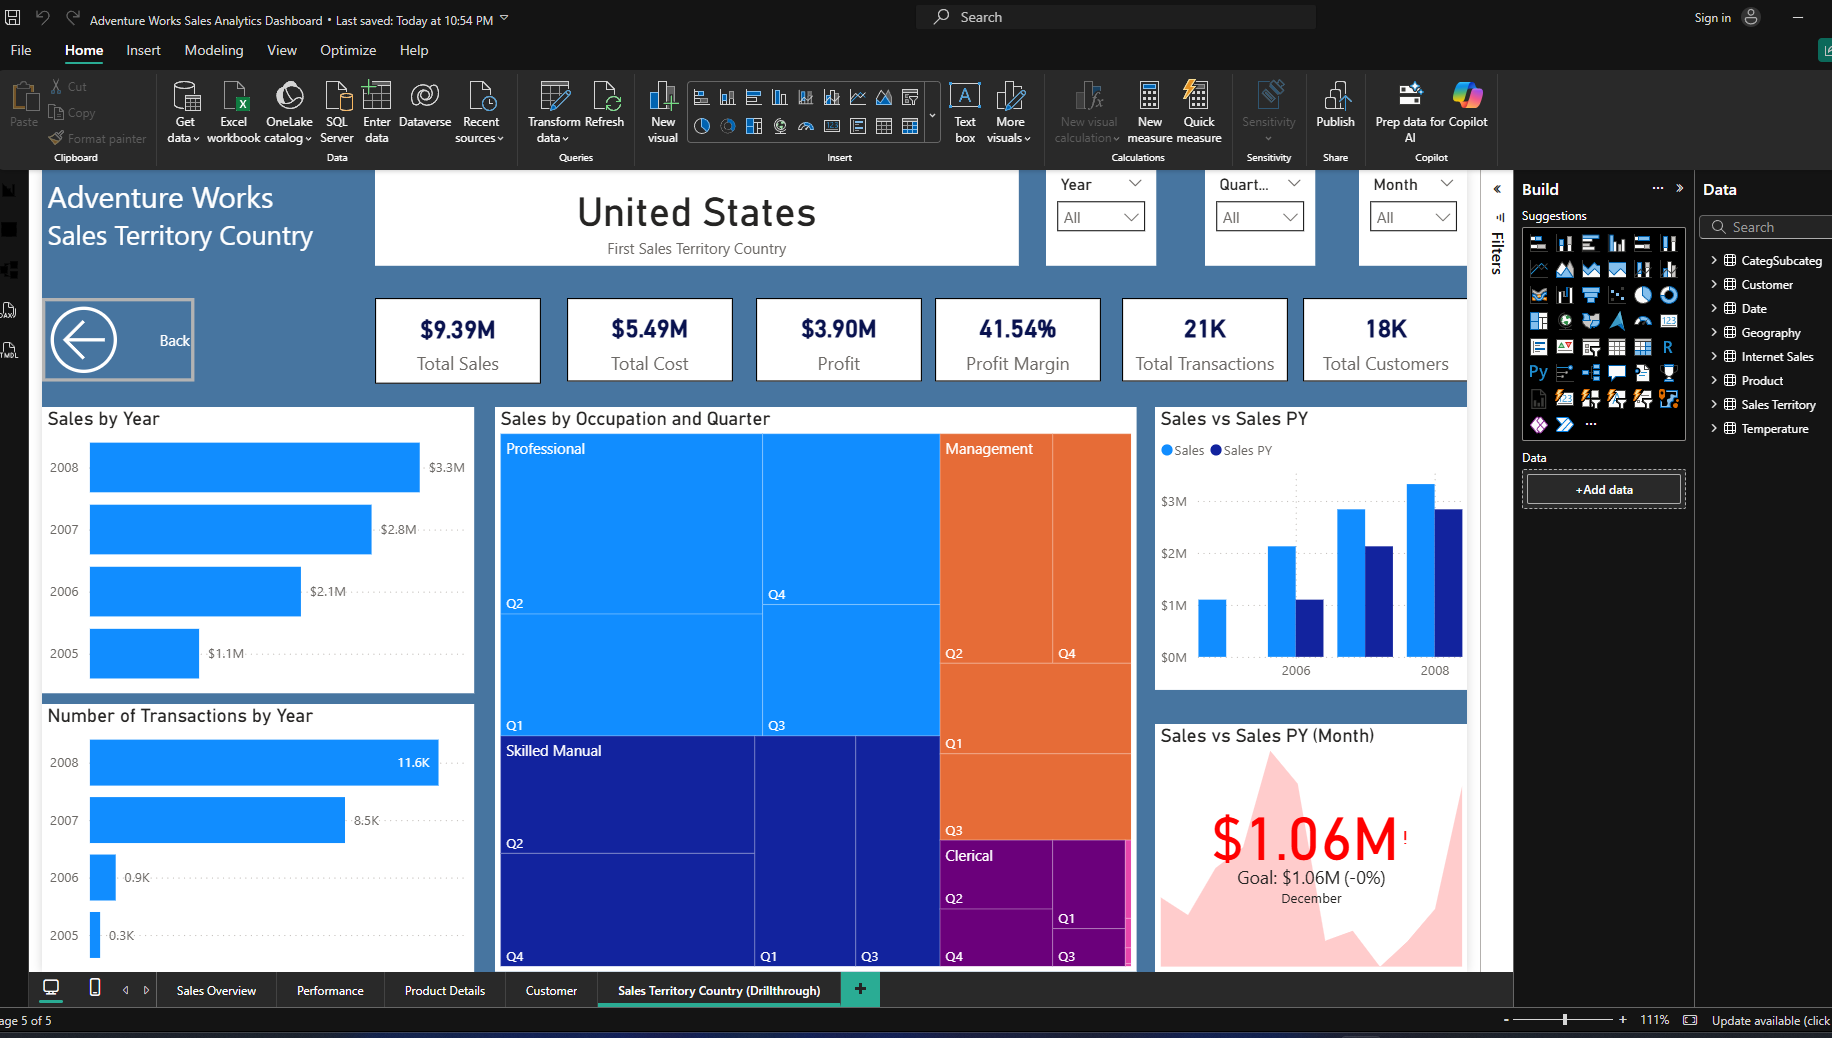

This screenshot's page, from the dashboard's own definition file:
{"tool":"powerbi","page":{"name":"Sales Territory Country (Drillthrough)","canvas":[1280,720],"ordinal":4},"visuals":[{"type":"barChart","title":"Number of Transactions by Year","fields":{"Category":["Date.Calendar Year"],"Y":["Internet Sales.Total Transactions"]},"box":[0,479.5,387.5,241],"z":0},{"type":"textbox","box":[0,0,288.2,86],"z":1000},{"type":"clusteredColumnChart","title":"Sales vs Sales PY","fields":{"Y":["Internet Sales.Total Sales","Internet Sales.SPLY Sales"],"Category":["Date.Calendar Hierarchy.Calendar Year","Date.Calendar Hierarchy.Calendar Quarter","Date.Calendar Hierarchy.Month Name"]},"box":[999.1,213.1,280.9,254.3],"z":2000},{"type":"card","fields":{"Values":["Internet Sales.Total Sales"]},"box":[299.1,115.1,148.7,76.7],"z":3000},{"type":"card","fields":{"Values":["Internet Sales.Profit"]},"box":[640.6,115.1,148.7,75.5],"z":4000},{"type":"card","fields":{"Values":["Internet Sales.Profit Margin"]},"box":[802,115.1,148.7,75.5],"z":5000},{"type":"card","fields":{"Values":["Internet Sales.Total Cost"]},"box":[471,115.1,148.7,75.5],"z":6000},{"type":"card","fields":{"Values":["Internet Sales.Total Transactions"]},"box":[969.3,115.1,148.7,75.5],"z":7000},{"type":"card","fields":{"Values":["Internet Sales.Total Customers"]},"box":[1131.9,115.1,148.7,75.5],"z":8000},{"type":"kpi","title":"Sales vs Sales PY (Month)","fields":{"Indicator":["Internet Sales.Total Sales"],"Goal":["Internet Sales.Total Sales PY (SPLY)"],"TrendLine":["Date.Month Name"]},"box":[999.1,497.7,280.9,222.8],"z":9000},{"type":"slicer","fields":{"Values":["Date.Calendar Quarter"]},"box":[1043.9,0,99.3,86],"z":10000},{"type":"slicer","fields":{"Values":["Date.Month Name"]},"box":[1181.9,0,98.1,86],"z":11000},{"type":"slicer","fields":{"Values":["Date.Calendar Year"]},"box":[901,0,99.3,86],"z":12000},{"type":"treemap","title":"Sales by Occupation and Quarter","fields":{"Group":["Customer.Occupation"],"Details":["Date.Calendar Quarter"],"Values":["Internet Sales.Total Sales"]},"box":[406.9,213.1,576.4,507.4],"z":13000},{"type":"actionButton","box":[0,115,136.8,75.1],"z":14000},{"type":"barChart","title":"Sales by Year","fields":{"Category":["Date.Calendar Year"],"Y":["Internet Sales.Total Sales"]},"box":[0,213.1,387.5,256.7],"z":15000},{"type":"card","fields":{"Values":["Min(Sales Territory.Sales Territory Country)"]},"box":[299.1,0,577.6,86],"z":16000}]}

Visuals, with their boxes on the page's 1280x720 design canvas (x1, y1, x2, y2). These are canvas units, not pixel positions in the 1832x1038 screenshot, which may show the page scaled, cropped or inside an application window:
"Number of Transactions by Year" barChart: l=0, t=480, r=388, b=720
textbox: l=0, t=0, r=288, b=86
"Sales vs Sales PY" clusteredColumnChart: l=999, t=213, r=1280, b=467
card - Internet Sales.Total Sales: l=299, t=115, r=448, b=192
card - Internet Sales.Profit: l=641, t=115, r=789, b=191
card - Internet Sales.Profit Margin: l=802, t=115, r=951, b=191
card - Internet Sales.Total Cost: l=471, t=115, r=620, b=191
card - Internet Sales.Total Transactions: l=969, t=115, r=1118, b=191
card - Internet Sales.Total Customers: l=1132, t=115, r=1281, b=191
"Sales vs Sales PY (Month)" kpi: l=999, t=498, r=1280, b=720
slicer - Date.Calendar Quarter: l=1044, t=0, r=1143, b=86
slicer - Date.Month Name: l=1182, t=0, r=1280, b=86
slicer - Date.Calendar Year: l=901, t=0, r=1000, b=86
"Sales by Occupation and Quarter" treemap: l=407, t=213, r=983, b=720
actionButton: l=0, t=115, r=137, b=190
"Sales by Year" barChart: l=0, t=213, r=388, b=470
card - Min(Sales Territory.Sales Territory Country): l=299, t=0, r=877, b=86
